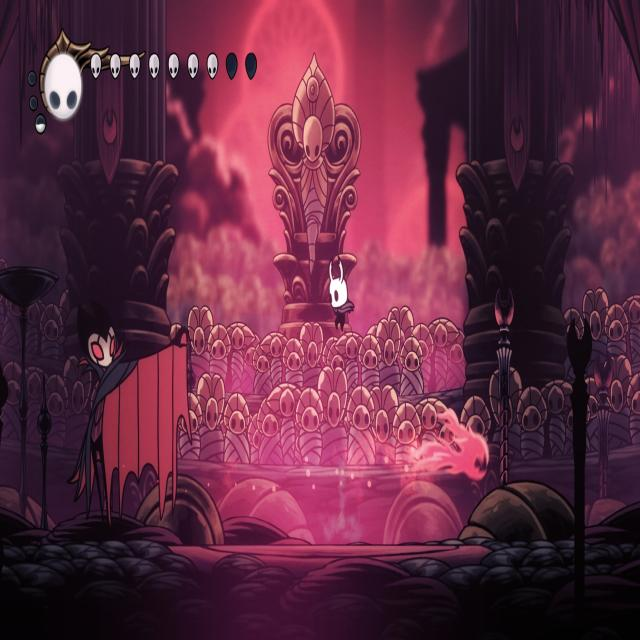Fire Bat: (422, 404, 487, 485)
Open Cloak: (69, 289, 197, 545)
Player: (326, 251, 356, 336)
